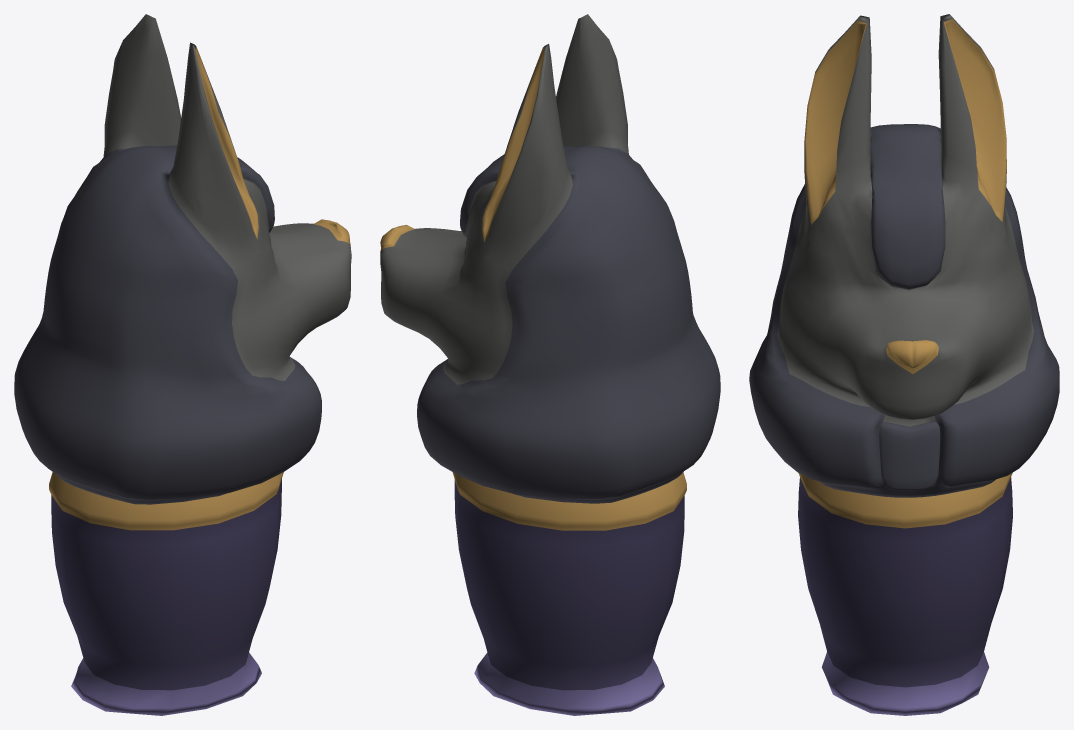
Rendered from urne_chien_uv.fbx.
3 renders of one model, left to right at view 1: azimuth 30°, elevation 25°; view 2: azimuth 150°, elevation 25°; view 3: azimuth 270°, elevation 25°, orthographic.
Parts seen in each view (by area): view 1: pasted__dog_2, pasted__base1; view 2: pasted__dog_2, pasted__base1; view 3: pasted__dog_2, pasted__base1.
Part boxes in pixels (x1,y1,x2,y2): pasted__dog_2: [14, 14, 351, 504]; pasted__base1: [49, 472, 283, 715]; pasted__dog_2: [380, 14, 720, 503]; pasted__base1: [452, 472, 686, 715]; pasted__dog_2: [749, 14, 1059, 497]; pasted__base1: [798, 473, 1012, 715].
Bounding box in the file's own units: 1.38 × 2.76 × 1.17.
